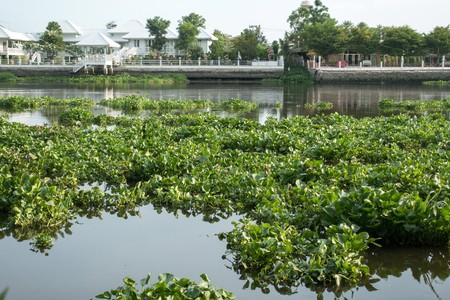water_hyacinth: (224, 215, 382, 300)
